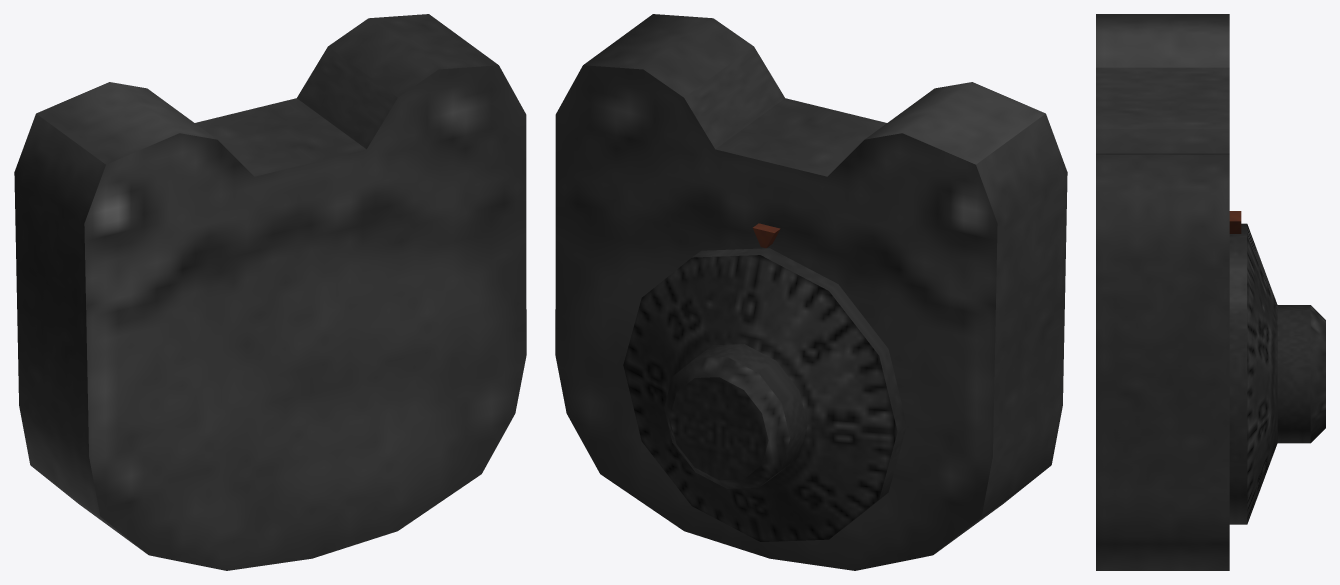
The model's file is padlock_4.fbx.
The picture shows the model from 3 angles, left to right: view 1: azimuth 30°, elevation 25°; view 2: azimuth 150°, elevation 25°; view 3: azimuth 270°, elevation 25°; orthographic projection. The views are drawn at different scales.
Parts seen in each view (by area): view 1: padlock_4; view 2: padlock_4, padlock_4_knob; view 3: padlock_4, padlock_4_knob.
Part boxes in pixels (left/top/right/bottom): padlock_4: left=14, top=14, right=526, bottom=570; padlock_4: left=555, top=14, right=1067, bottom=570; padlock_4_knob: left=623, top=248, right=906, bottom=541; padlock_4: left=1096, top=14, right=1241, bottom=570; padlock_4_knob: left=1229, top=223, right=1325, bottom=524.
Bounding box in the file's own units: 0.0806 × 0.0381 × 0.0798.
